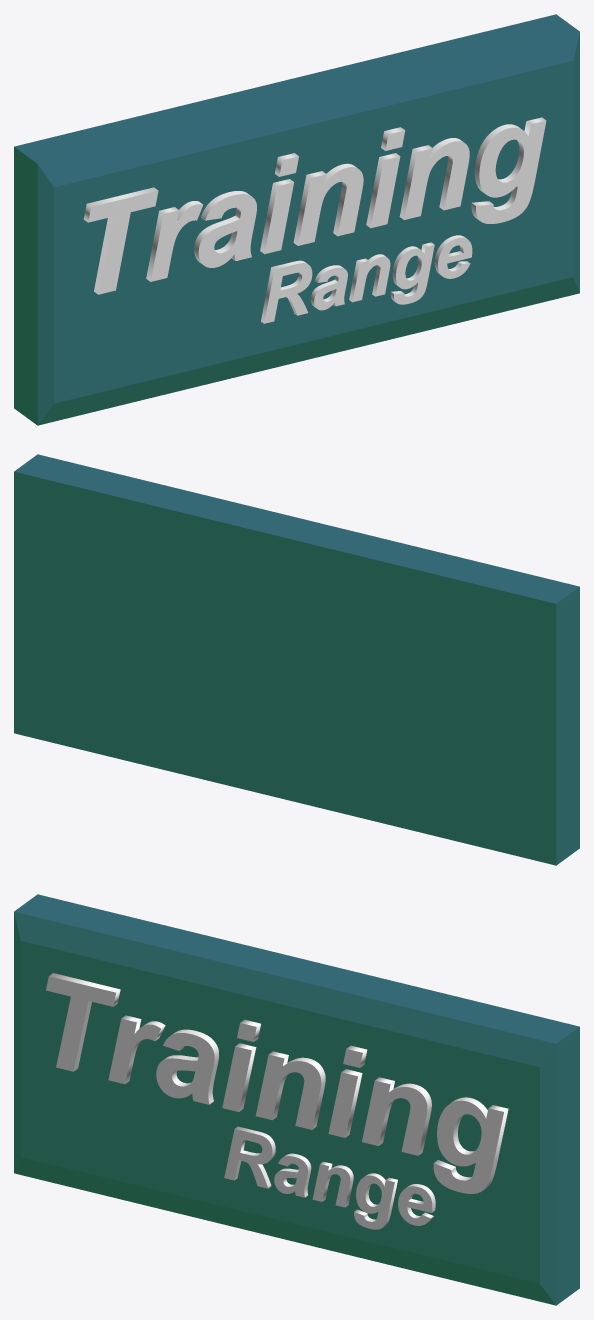
The model's file is Training_Range_Button.fbx.
3 renders of one model, top to bottom at view 1: azimuth 30°, elevation 25°; view 2: azimuth 150°, elevation 25°; view 3: azimuth 330°, elevation 25°, orthographic.
Parts seen in each view (by area): view 1: Training_Range; view 2: Training_Range; view 3: Training_Range.
Part boxes in pixels (x1,y1,x2,y2): Training_Range: [14, 14, 579, 425]; Training_Range: [14, 454, 579, 865]; Training_Range: [14, 894, 579, 1305].
Size of the model in its own units: 809 by 373 by 85.32.
